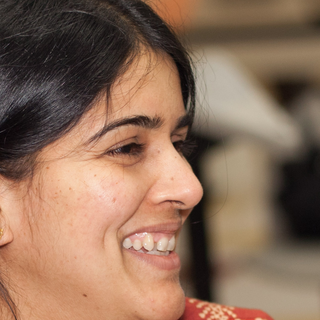eye: (101, 136, 149, 163)
